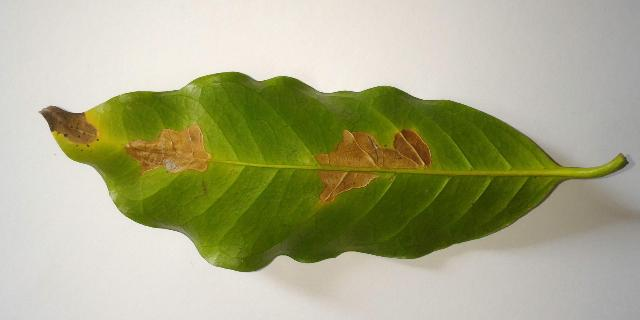cercospora: (316, 129, 432, 206), (123, 124, 211, 175), (42, 106, 104, 147)
